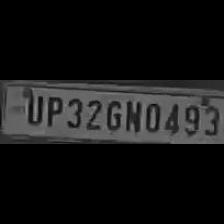0: (141, 98, 161, 134)
2: (82, 95, 102, 131)
3: (62, 93, 82, 129), (202, 99, 220, 137)
4: (160, 99, 180, 135)
9: (181, 100, 201, 136)
G: (102, 96, 122, 132)
N: (122, 96, 142, 134)
P: (42, 94, 62, 128)
U: (22, 92, 42, 126)
